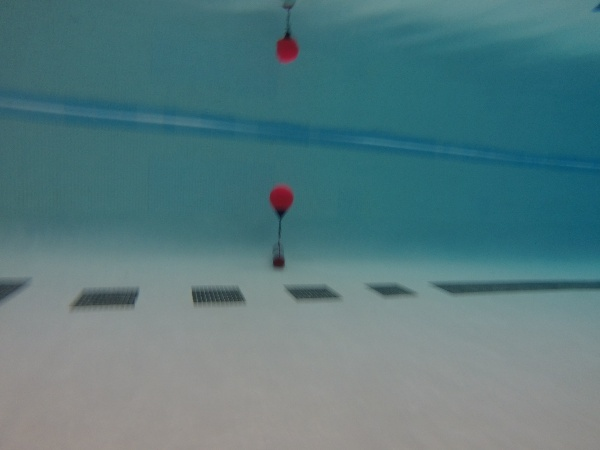buoy_red: (267, 184, 296, 220)
